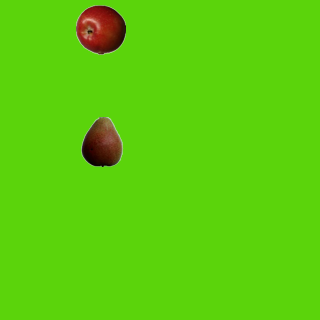Apple Braeburn: (75, 4, 125, 54)
Pear Forelle: (76, 116, 126, 166)
